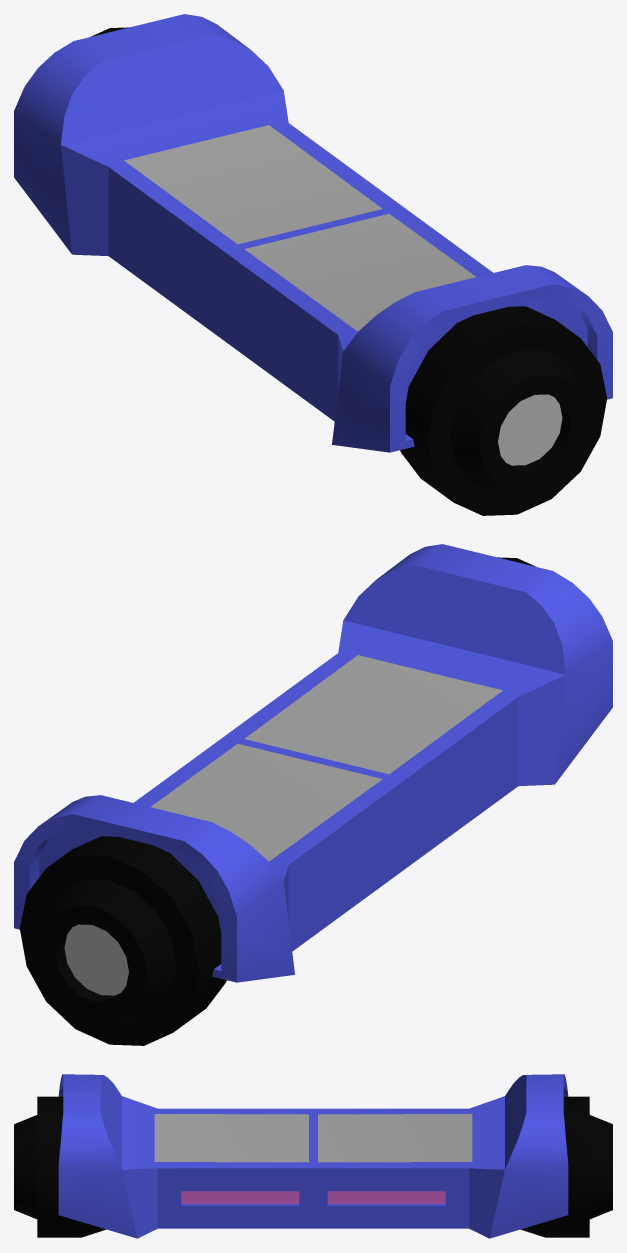
3 renders of one model, top to bottom at view 1: azimuth 30°, elevation 25°; view 2: azimuth 150°, elevation 25°; view 3: azimuth 270°, elevation 25°, orthographic. The views are drawn at different scales.
Parts seen in each view (by area): view 1: Cube, Cylinder; view 2: Cube, Cylinder; view 3: Cube, Cylinder.
Boxes of the visible parts, <box> form: Cube: <box>14,14,612,452</box>; Cylinder: <box>90,27,607,515</box>; Cube: <box>14,544,612,982</box>; Cylinder: <box>19,557,536,1045</box>; Cube: <box>58,1074,568,1238</box>; Cylinder: <box>14,1096,612,1237</box>.
Bounding box in the file's own units: 105 × 91.02 × 359.
